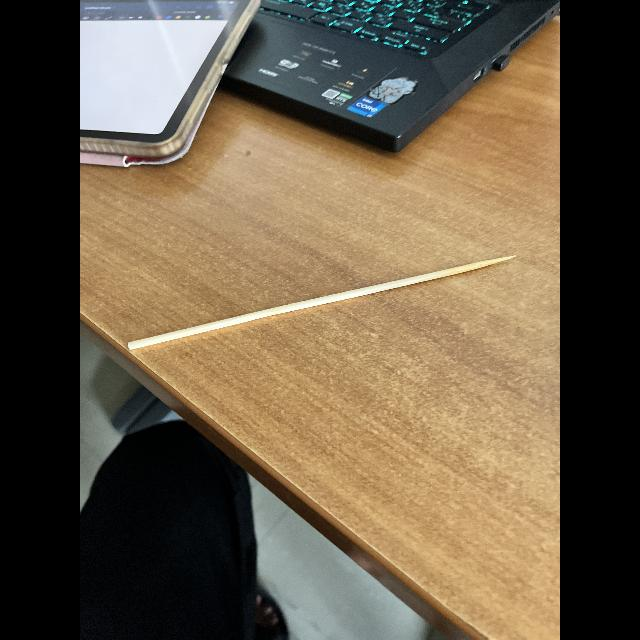stick: (117, 244, 525, 370)
